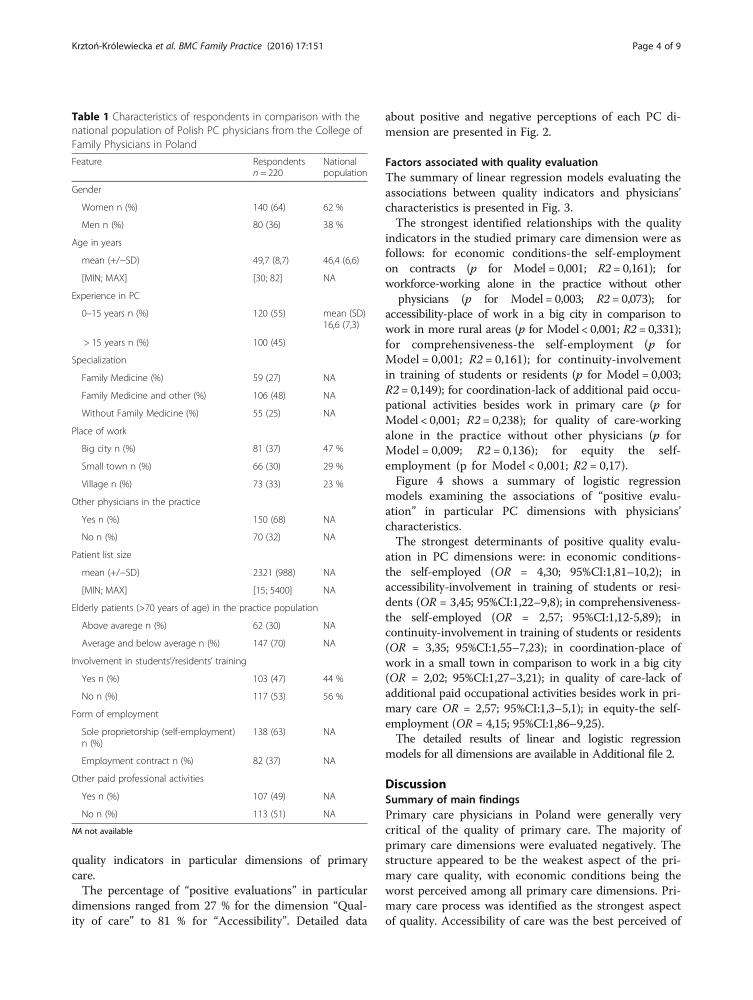table: (71, 155, 367, 819)
